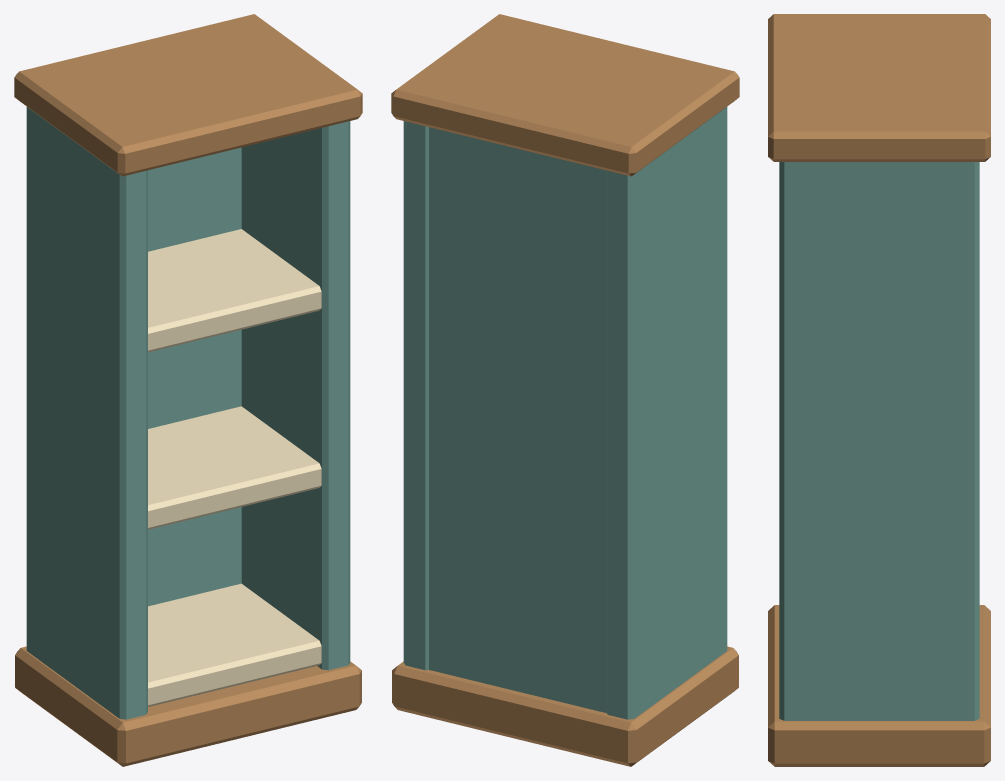
The picture shows the model from 3 angles, left to right: view 1: azimuth 30°, elevation 25°; view 2: azimuth 150°, elevation 25°; view 3: azimuth 270°, elevation 25°; orthographic projection. The views are drawn at different scales.
Visible parts, largest first — view 1: entryway-cubby-tower-01; view 2: entryway-cubby-tower-01; view 3: entryway-cubby-tower-01.
Boxes of the visible parts, left/top/right/bottom form: entryway-cubby-tower-01: left=14, top=14, right=362, bottom=766; entryway-cubby-tower-01: left=391, top=14, right=739, bottom=766; entryway-cubby-tower-01: left=768, top=14, right=990, bottom=766.
Bounding box in the file's own units: 0.52 × 1.26 × 0.4.
